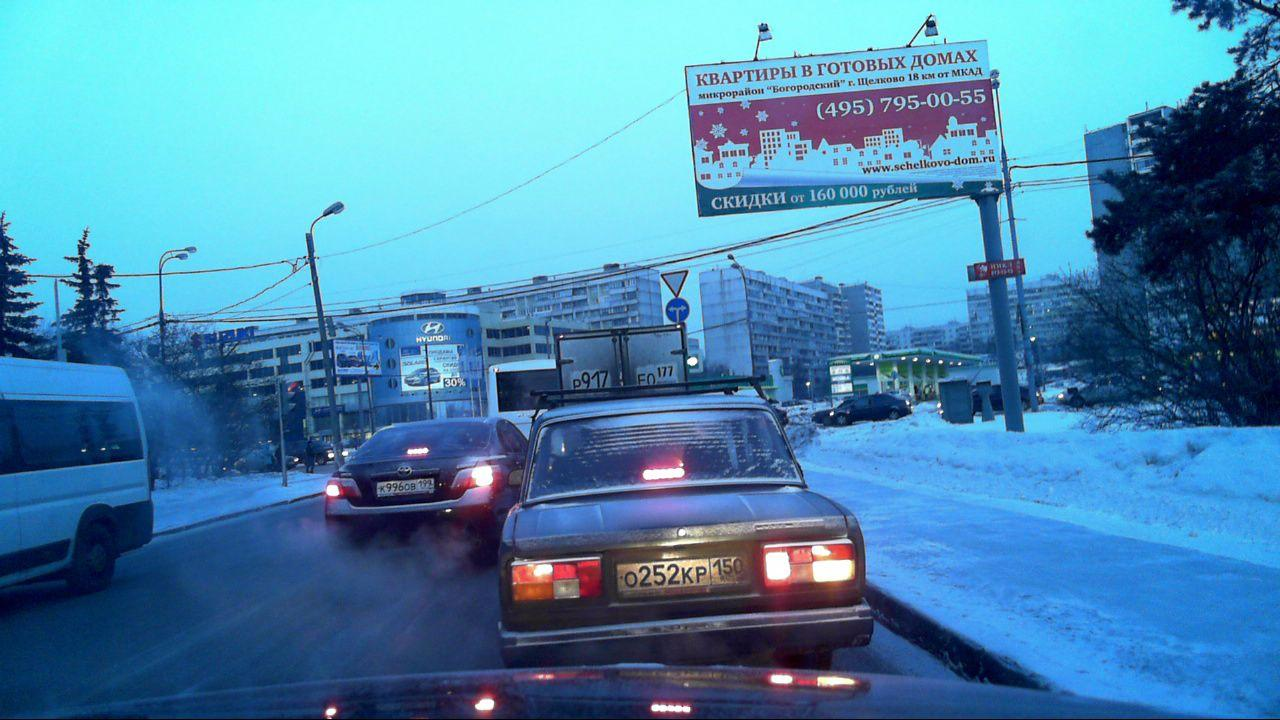2_4: (660, 270, 690, 297)
4_1_6: (663, 298, 689, 323)
